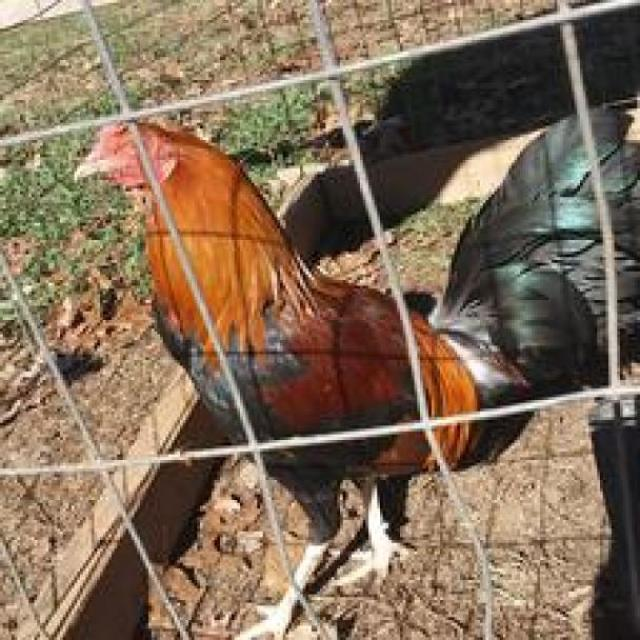Chicken: (72, 72, 629, 639)
